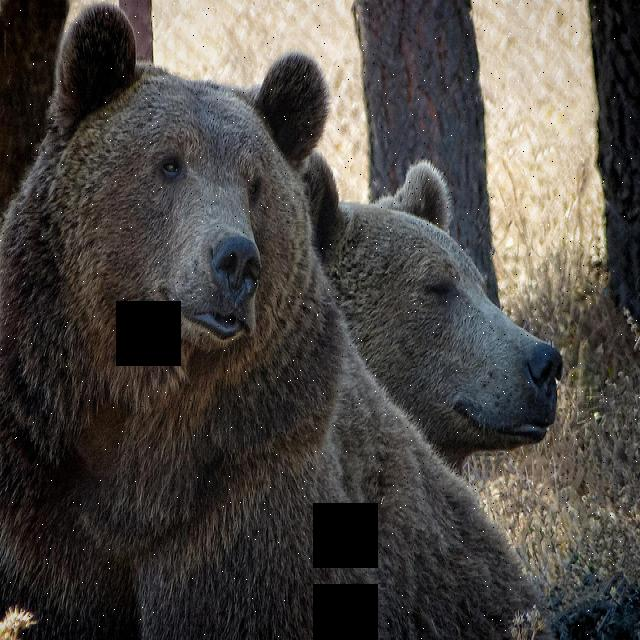Bear: (8, 6, 546, 640), (293, 144, 576, 466)
